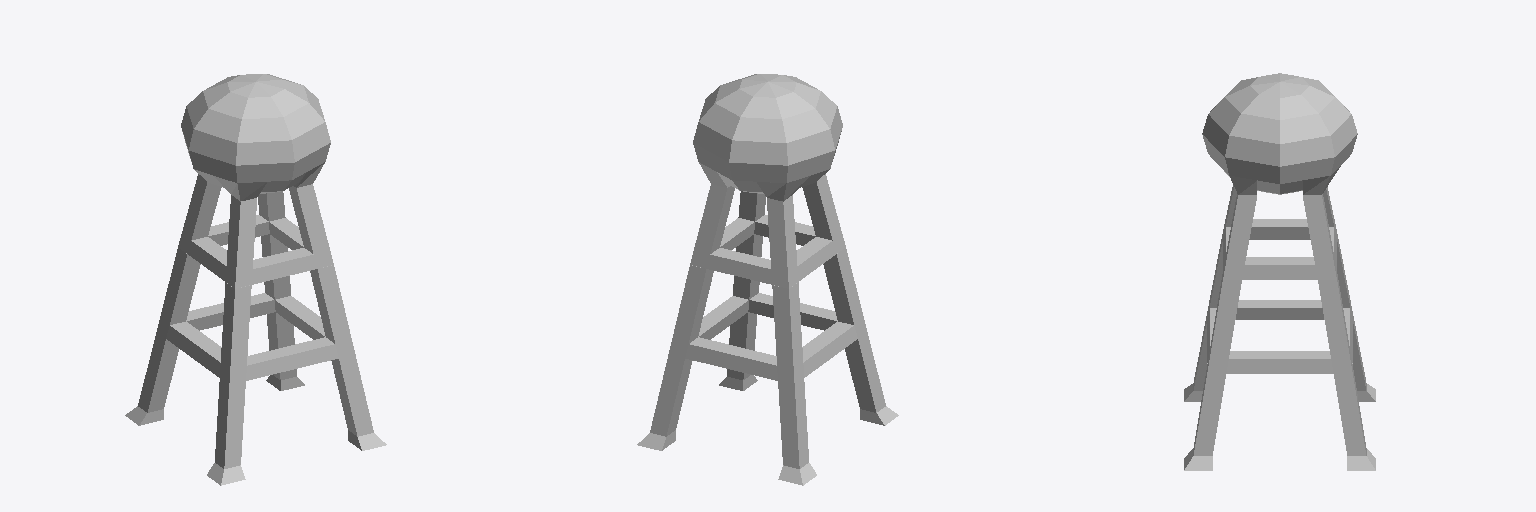
File: LightningRod.obj
3 renders of one model, left to right at view 1: azimuth 30°, elevation 25°; view 2: azimuth 150°, elevation 25°; view 3: azimuth 270°, elevation 25°, orthographic.
Visible parts, largest first — view 1: Top, Mid; view 2: Top, Mid; view 3: Top, Mid.
Boxes of the visible parts, <box> form: Top: <box>178,74,333,288</box>; Mid: <box>125,234,386,485</box>; Top: <box>690,74,845,288</box>; Mid: <box>637,234,898,485</box>; Top: <box>1202,73,1357,279</box>; Mid: <box>1184,234,1375,470</box>.
Bounding box in the file's own units: 2.5 × 5 × 2.5.